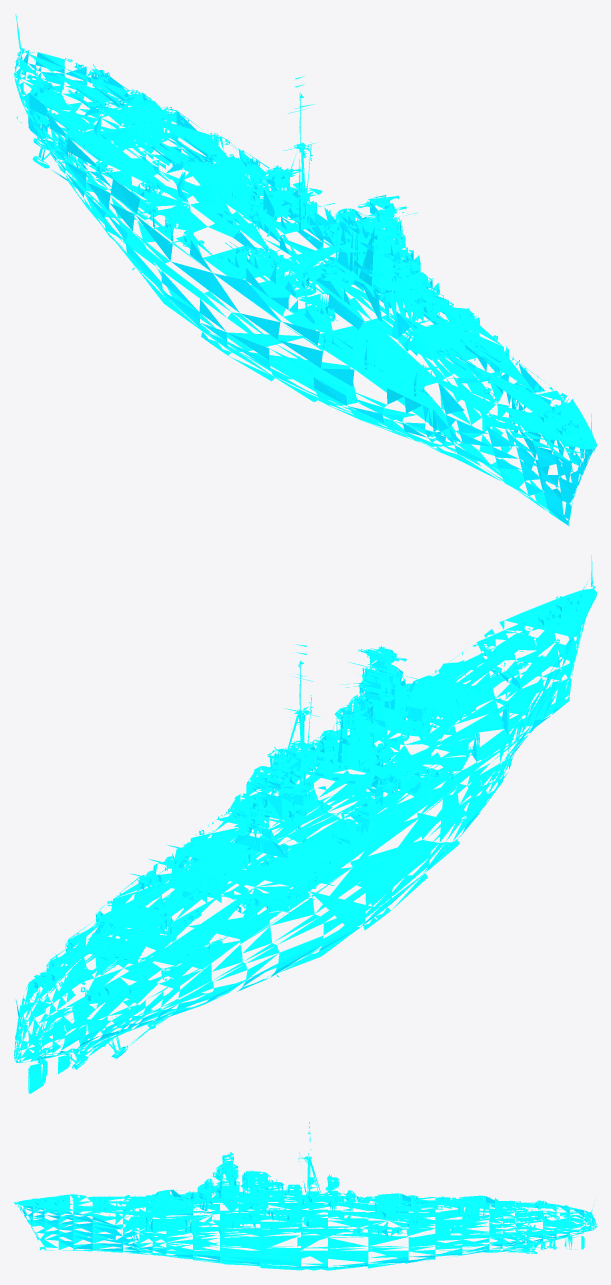
The model's file is PRSB509.glb.
The picture shows the model from 3 angles, top to bottom: view 1: azimuth 30°, elevation 25°; view 2: azimuth 150°, elevation 25°; view 3: azimuth 270°, elevation 25°; orthographic projection. The views are drawn at different scales.
Visible parts, largest first — view 1: hull, turret; view 2: hull, turret; view 3: hull, turret.
Part boxes in pixels (box(x1,y1,x2,y2)): hull: box(14, 14, 596, 526); turret: box(37, 64, 573, 433); hull: box(14, 555, 596, 1093); turret: box(38, 598, 574, 1000); hull: box(14, 1132, 596, 1270); turret: box(38, 1122, 544, 1232).
Size of the model in its own units: 2.43 by 3.47 by 14.46.
